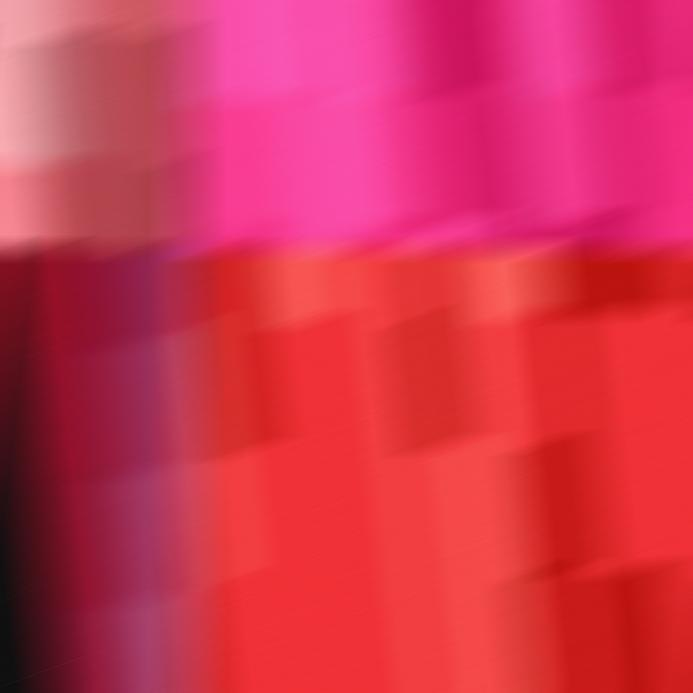bear brand: (0, 253, 196, 690)
choco mucho: (0, 3, 196, 245)
